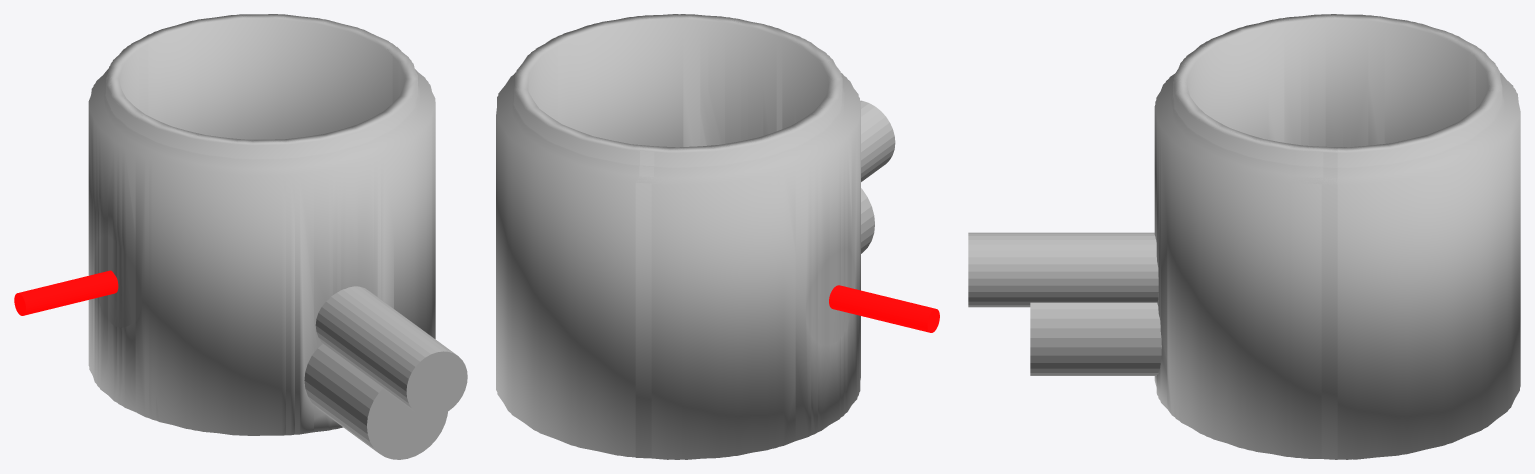
File: LOT129_dedb546f.glb
3 views of the same model, side by side, from view 1: azimuth 30°, elevation 25°; view 2: azimuth 150°, elevation 25°; view 3: azimuth 270°, elevation 25° (orthographic). The views are drawn at different scales.
Visible parts, largest first — view 1: 1200x1.219mr_Obj, Cylinder.003; view 2: 1200x1.219mr_Obj, Cylinder.003; view 3: 1200x1.219mr_Obj.
Boxes of the visible parts, x1,y1,x2,y2 form: 1200x1.219mr_Obj: (88,14,467,459); Cylinder.003: (14,270,118,315); 1200x1.219mr_Obj: (496,14,895,459); Cylinder.003: (829,285,939,332); 1200x1.219mr_Obj: (968,14,1520,459).
Size of the model in its own units: 1.92 by 1.33 by 2.22.
